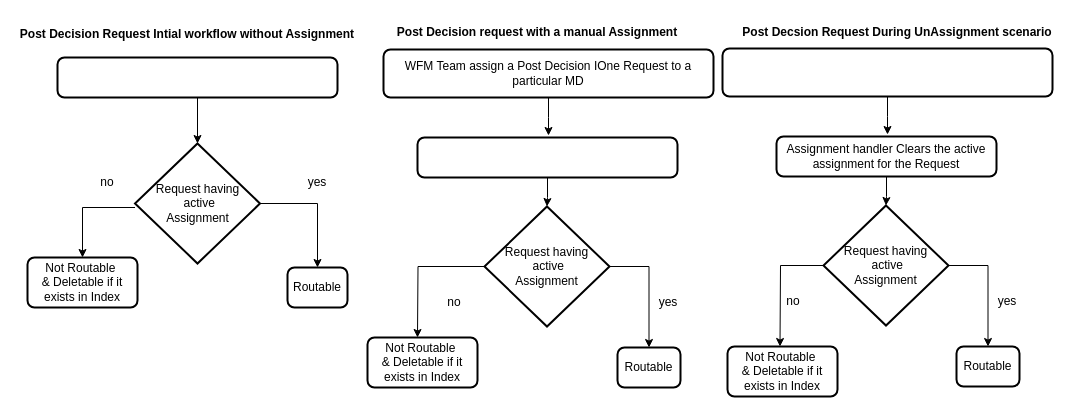
The diagram is 1074 pixels wide and 414 high, and some of its shapes have lost their labels. The shapes that lost their labels are listed below. From the top down, each one's centre as x and y in pixels, then its label:
At [197,77]: "Post Decision IOne Request with status Appeal,AppealRecommended,Reconsideration".
At [887,72]: "WFM Team raises unAssignment event for the Post Decision IOne Request".
At [547,157]: "Assignment handler update the assignment for the Post Decision Request".
